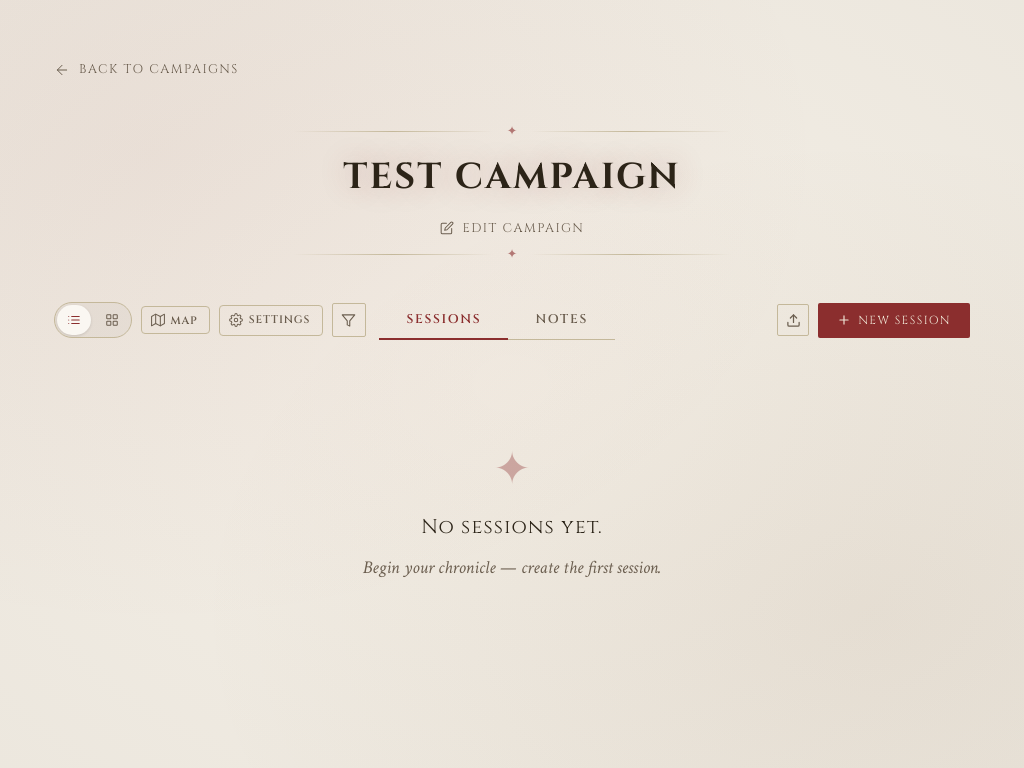
Test case: Editor — notes › should show empty notes state when no notes exist
Click the button "Notes" at point(562, 320), box [508,300,615,340]
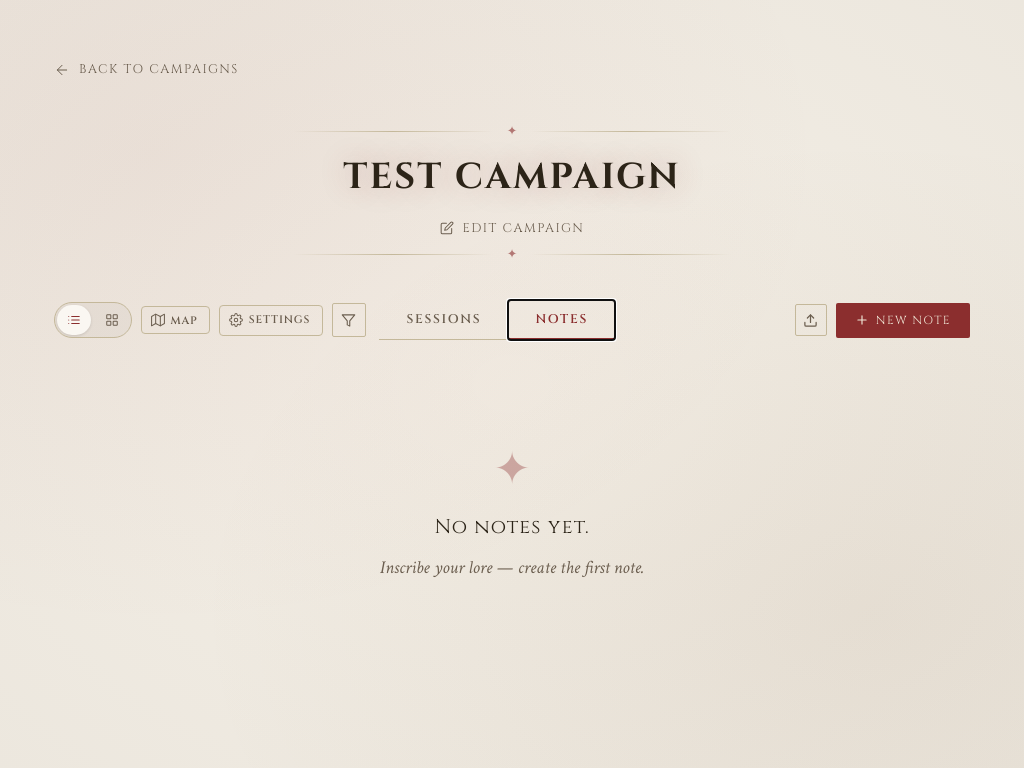
Result: the text "No notes yet." is shown at [434,511,590,544]
